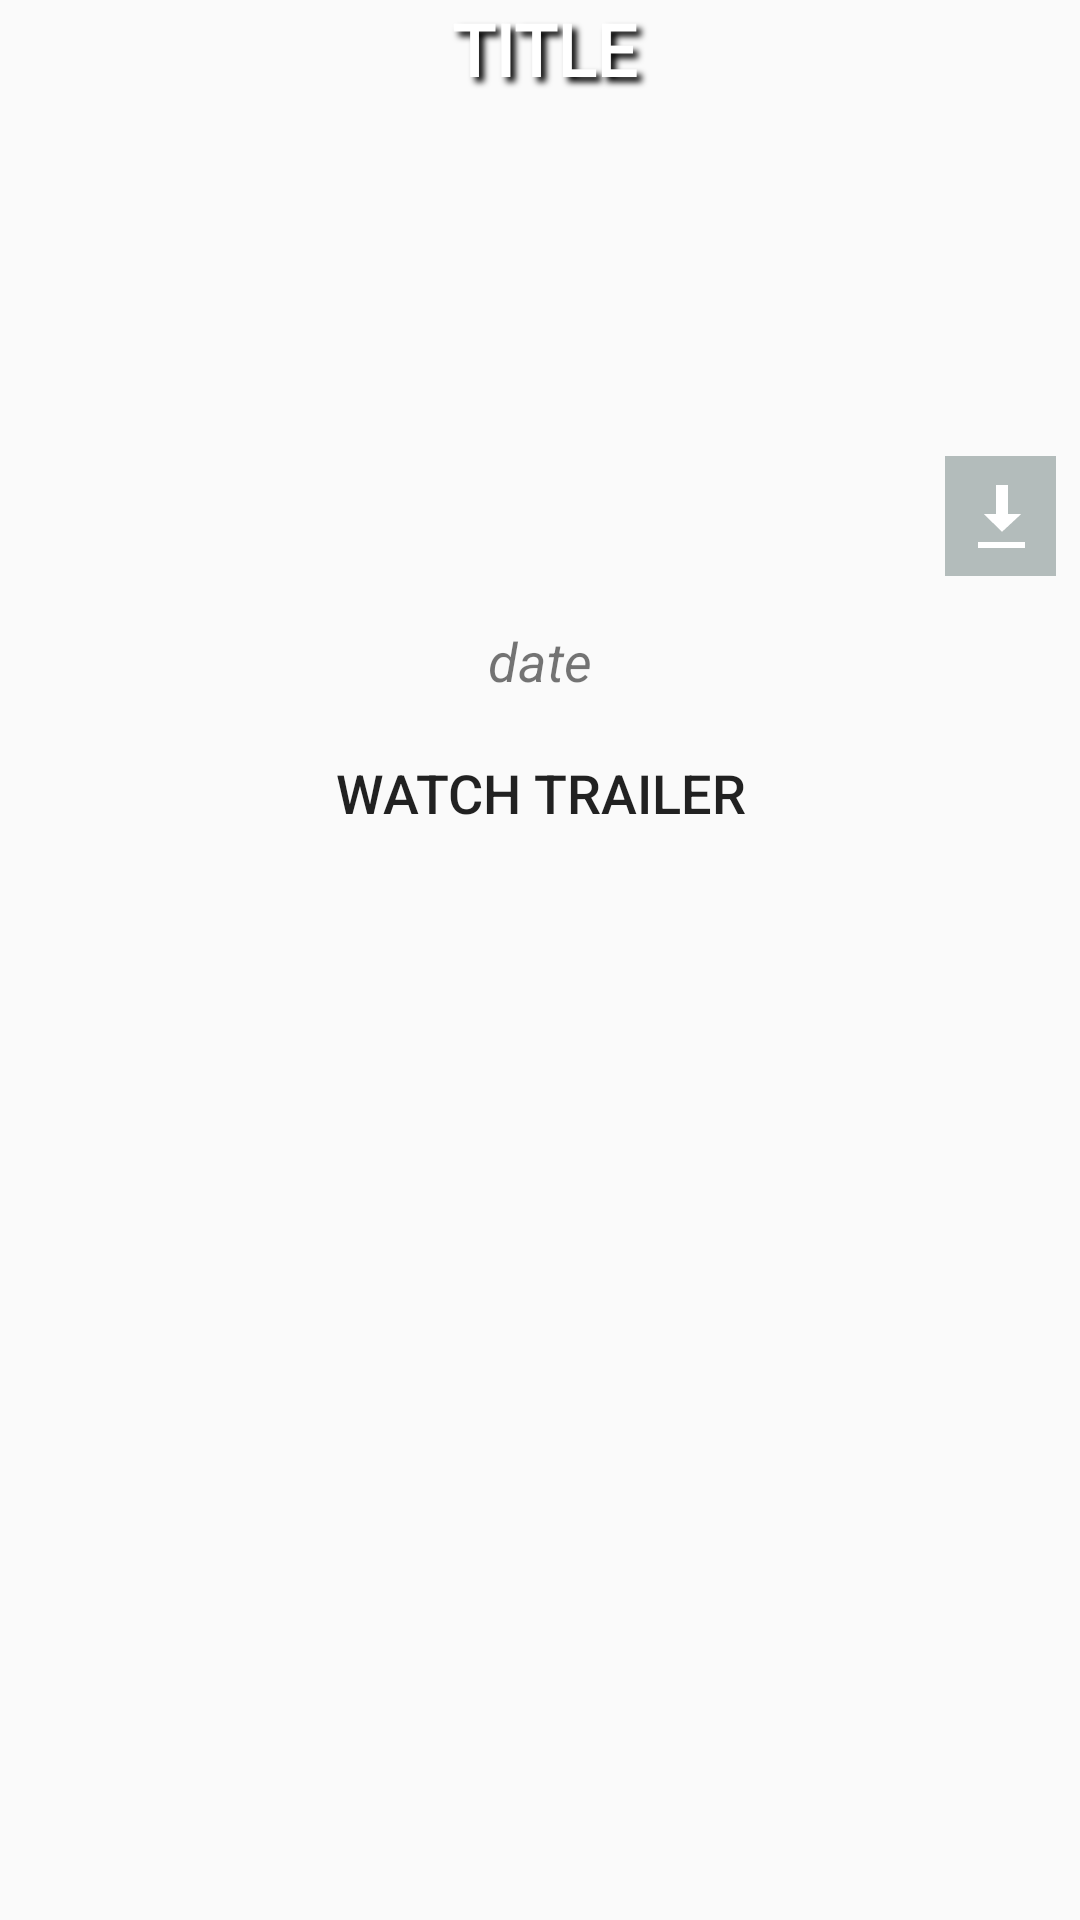

Named icons in this screenshot (1080×1920) and their bounding boxes, (x1, y1, x2, y2):
download: (945, 456, 1056, 576)
